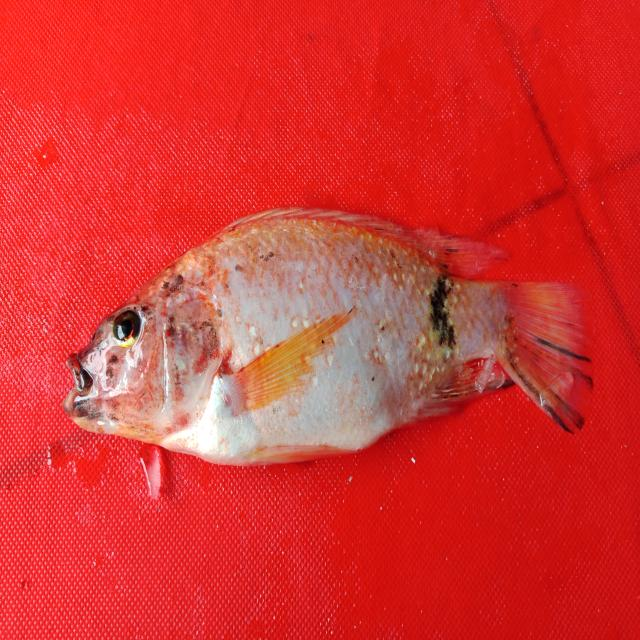ikan: (63, 183, 602, 484)
